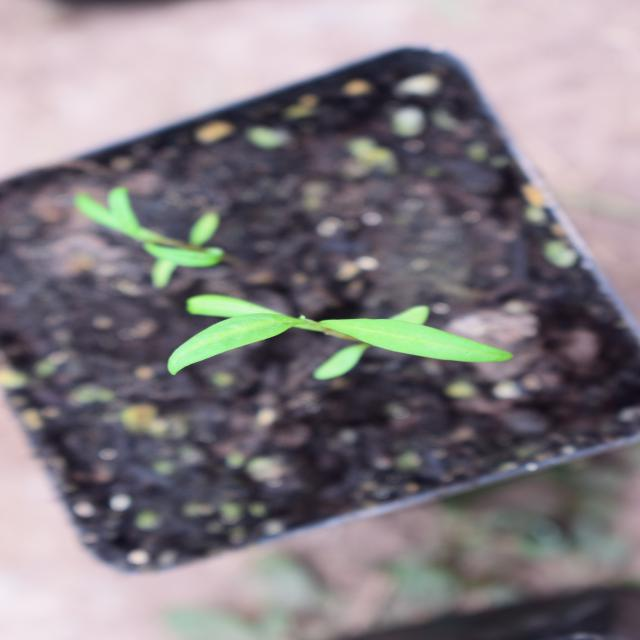white_smart_weed: (219, 120, 394, 513)
